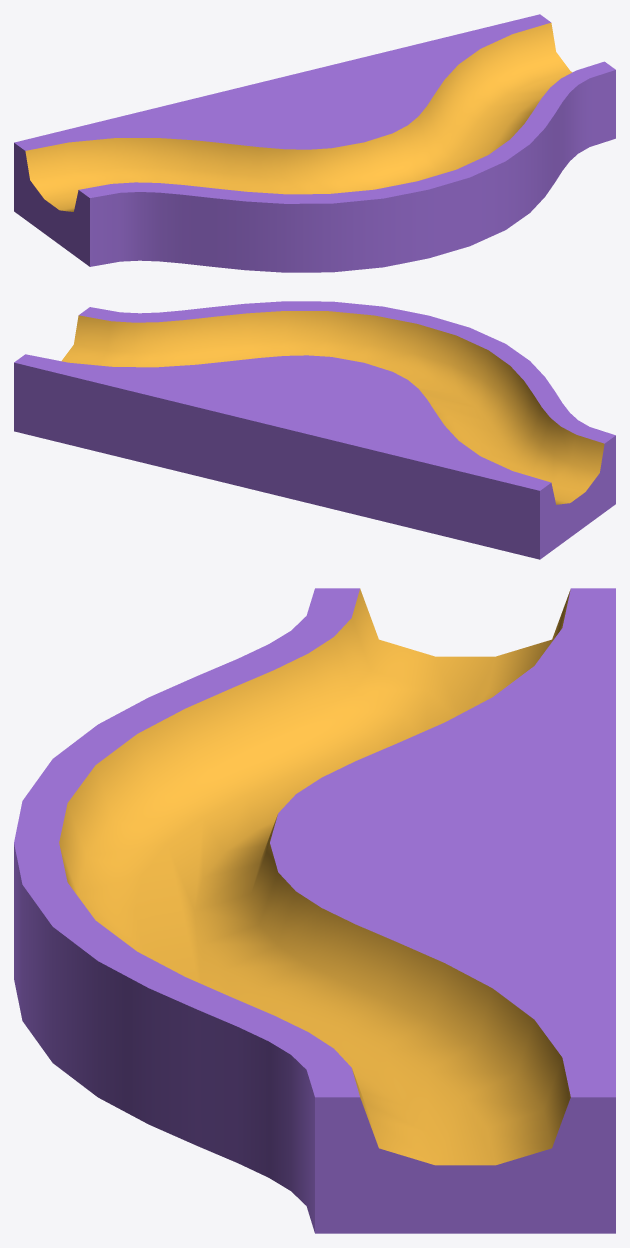
The model's file is wave-solid-c-col.glb.
3 views of the same model, one above another, from view 1: azimuth 30°, elevation 25°; view 2: azimuth 150°, elevation 25°; view 3: azimuth 270°, elevation 25° (orthographic). The views are drawn at different scales.
Parts seen in each view (by area): view 1: wave-solid-c-col; view 2: wave-solid-c-col; view 3: wave-solid-c-col.
Boxes of the visible parts, x1=… form: wave-solid-c-col: x1=14, y1=14, x2=615, y2=272; wave-solid-c-col: x1=14, y1=301, x2=615, y2=559; wave-solid-c-col: x1=14, y1=588, x2=615, y2=1233.
Bounding box in the file's own units: 4 × 0.5 × 2.
Materials: 1 (1 with a texture image).
